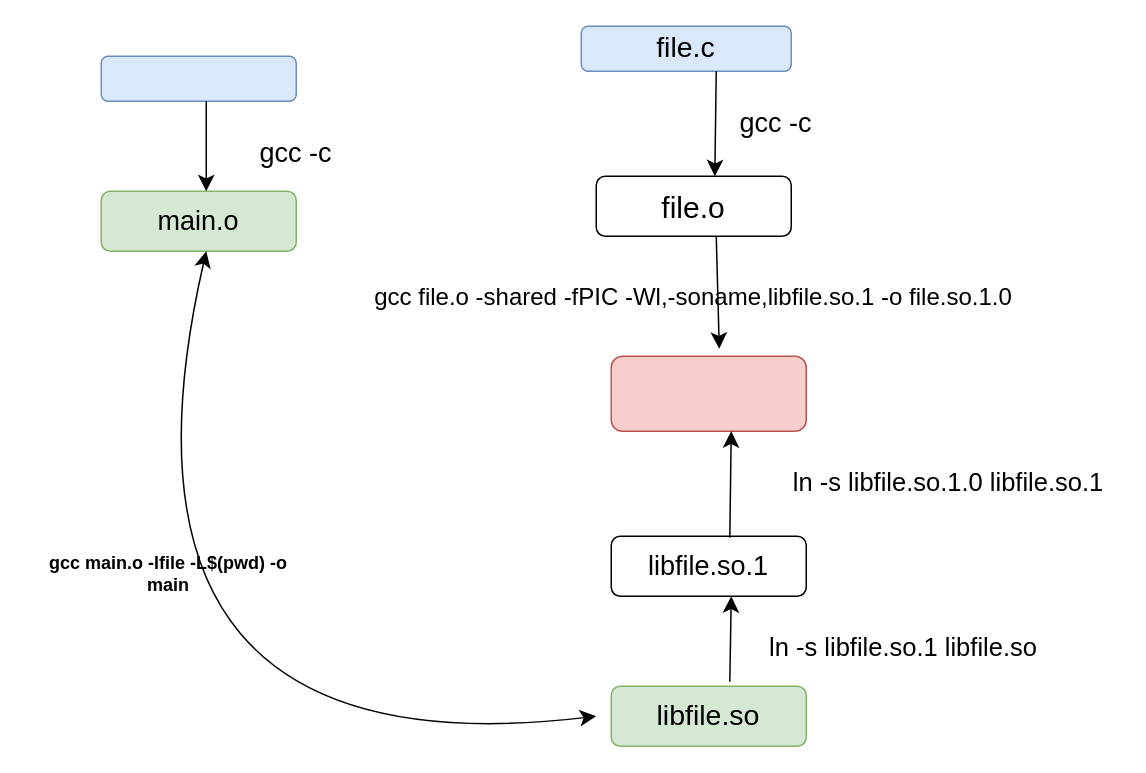
This 1146x773 diagram has some shape labels left out. Each missing label, with the centre of its shape:
libfile.so.1.0: pixel 708 393
main.c: pixel 198 78
